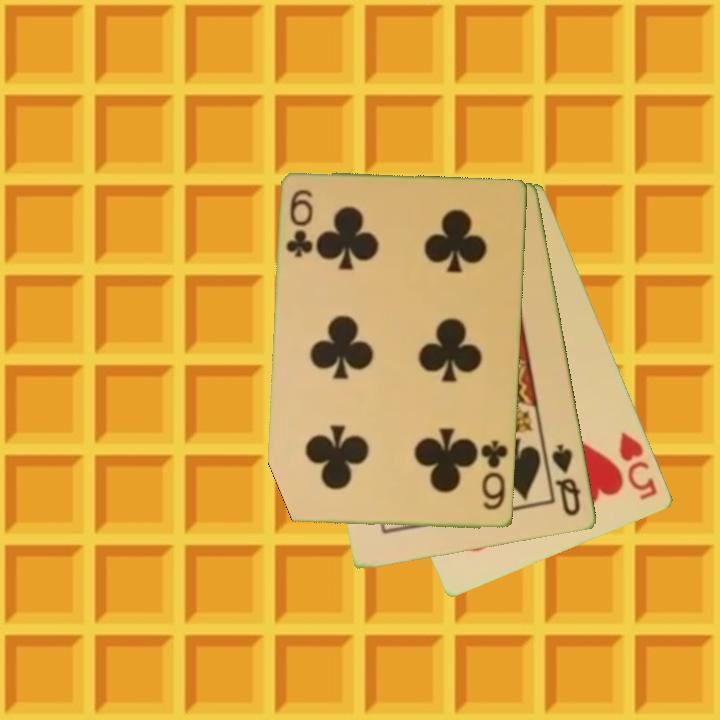5h: (616, 428, 661, 504)
6c: (283, 186, 317, 261), (478, 437, 511, 514)
Qs: (548, 440, 584, 519)
